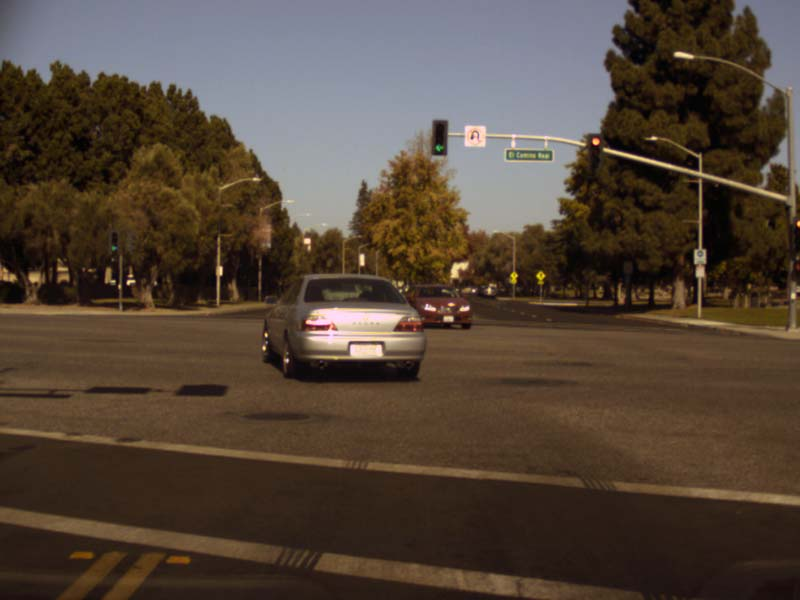Green: (432, 120, 446, 154), (110, 231, 118, 252)
Red: (589, 134, 600, 167)
